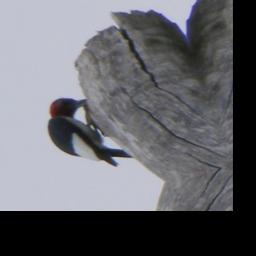Woodpecker: (34, 84, 138, 183)
